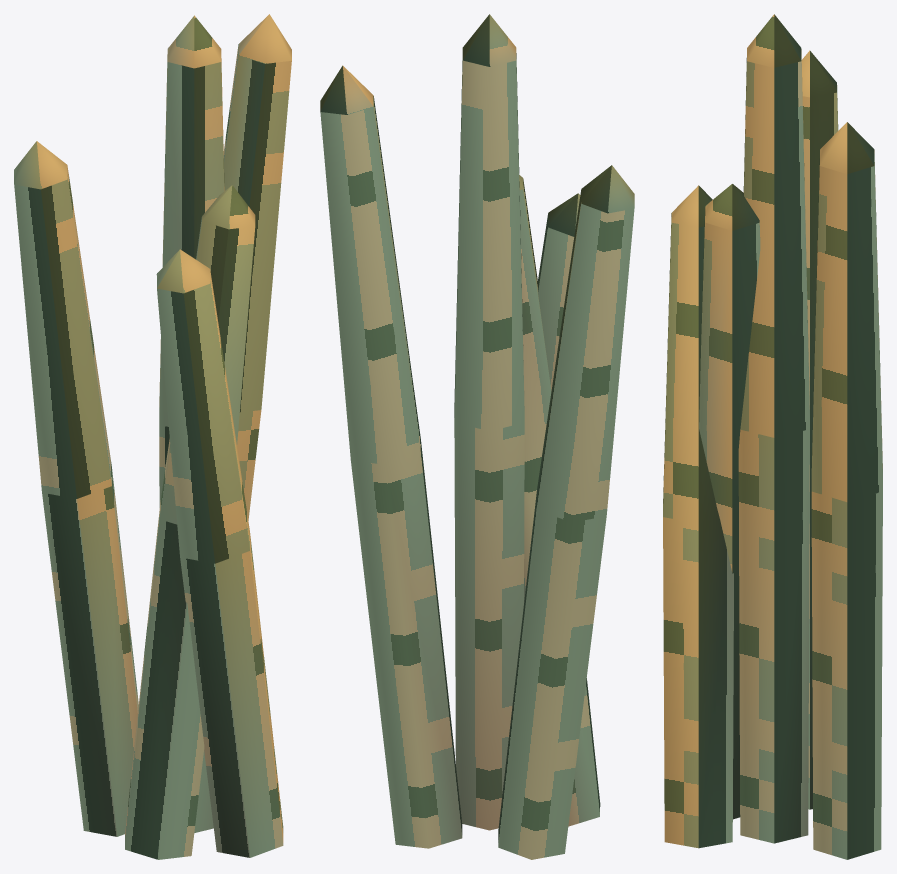
The model's file is wprop.cactus__organ.glb.
3 renders of one model, left to right at view 1: azimuth 30°, elevation 25°; view 2: azimuth 150°, elevation 25°; view 3: azimuth 270°, elevation 25°, orthographic.
Parts seen in each view (by area): view 1: kit_stems; view 2: kit_stems; view 3: kit_stems.
Part boxes in pixels (bbox=[...]): kit_stems: bbox=[14, 14, 291, 859]; kit_stems: bbox=[320, 14, 634, 859]; kit_stems: bbox=[663, 14, 882, 859].
Size of the model in its own units: 0.9714 by 2.53 by 0.6162.
1 material, 1 textured.
